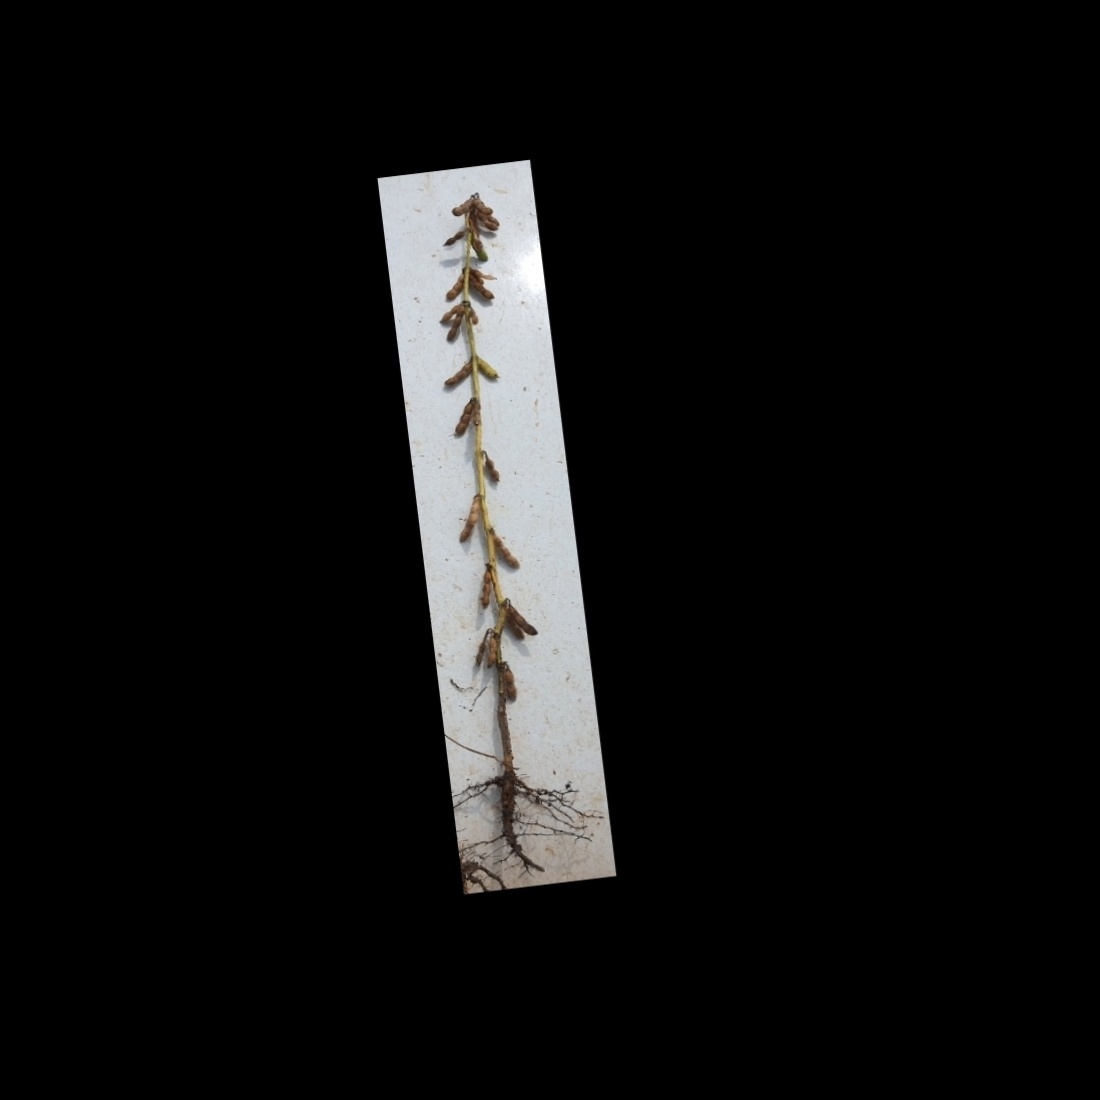pod: (453, 492, 487, 544), (438, 351, 479, 389), (492, 530, 523, 574), (449, 397, 482, 436), (439, 269, 473, 301), (473, 350, 502, 386), (475, 567, 498, 610), (480, 447, 503, 487), (500, 664, 521, 703), (439, 224, 472, 247), (469, 637, 491, 669), (482, 635, 501, 668), (467, 302, 480, 327)
soy: (397, 183, 587, 877)
